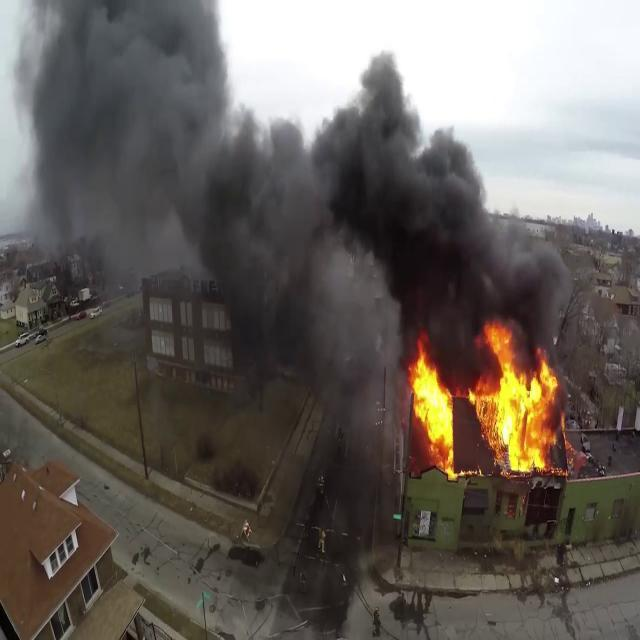Fire: (469, 314, 568, 484), (403, 339, 460, 472)
Smoke: (193, 39, 568, 370), (10, 3, 242, 260)
